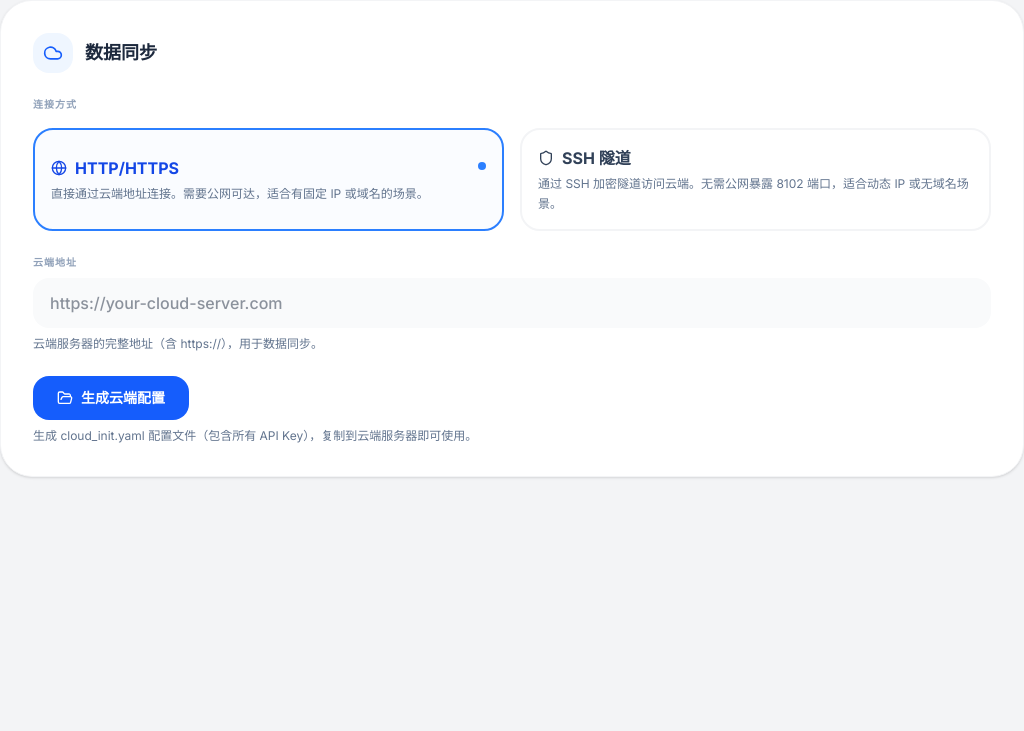
SyncConfigSection › Seam 5: 连接方式切换 › should preserve SSH config when switching back to HTTP mode
切换到 SSH 模式
Click the button "SSH 隧道 通过 SSH 加密隧道访问云端。无需公网暴露 8102 端口，适合动态 IP 或无域名场景。" at x=756, y=180, box [520,128,991,231]
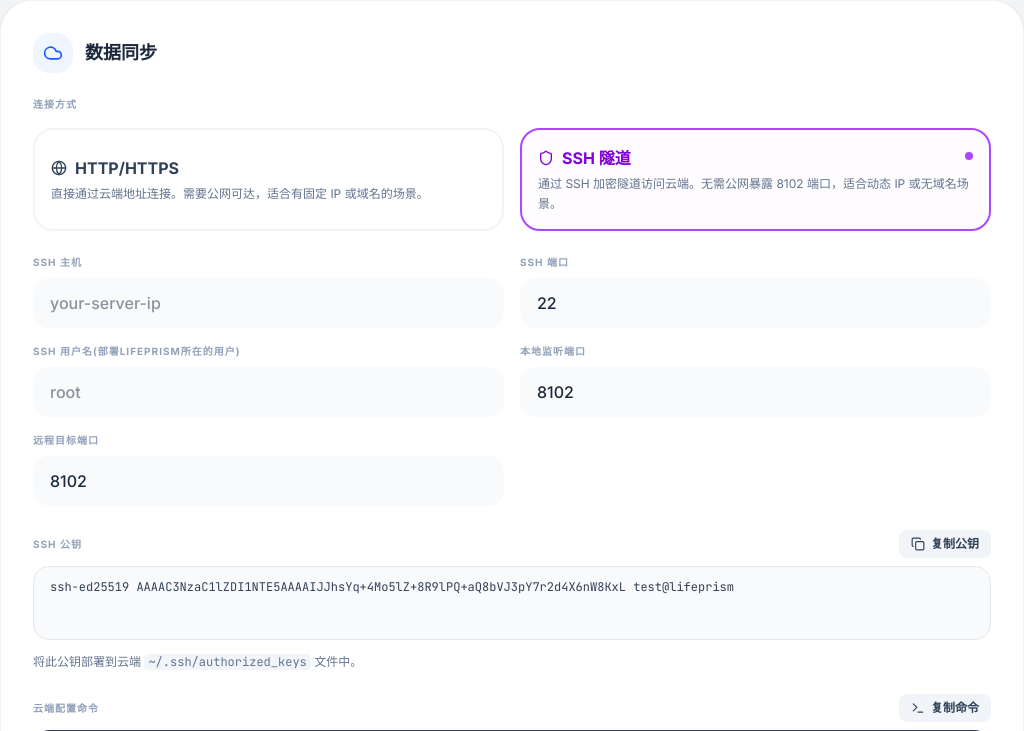
Result: the field named "SSH 主机" is shown
输入 SSH 配置
Type "1.2.3.4" into the field named "SSH 主机" at x=268, y=303, box [33,278,504,328]
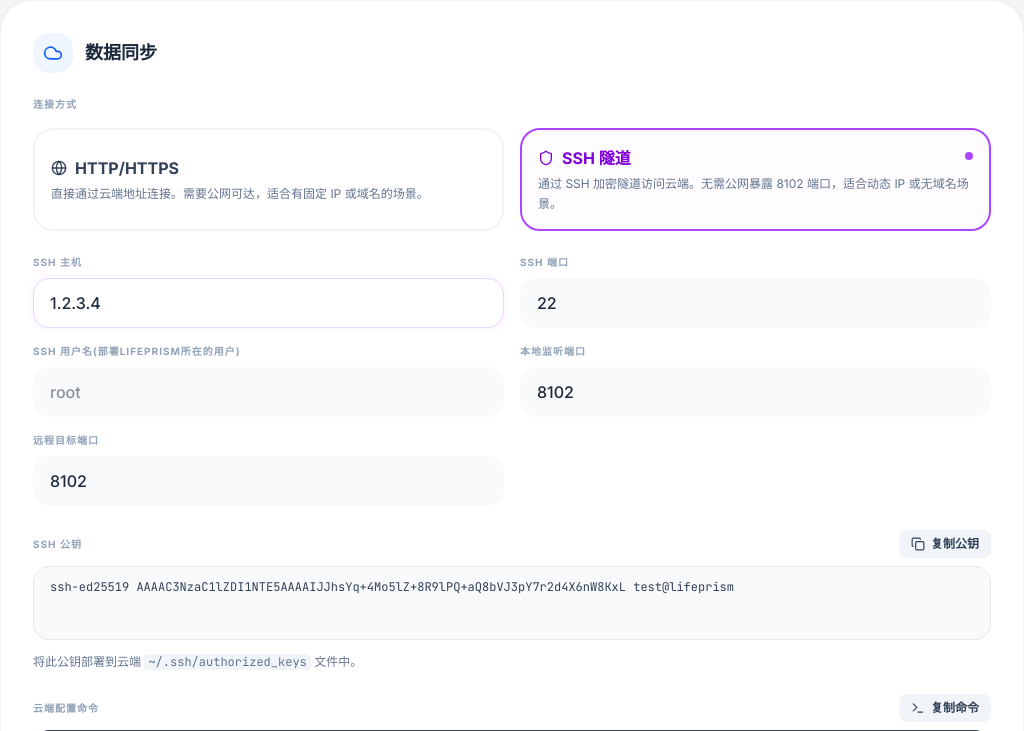
Type "lifeprism" into the field named "SSH 用户名" at x=268, y=392, box [33,367,504,417]
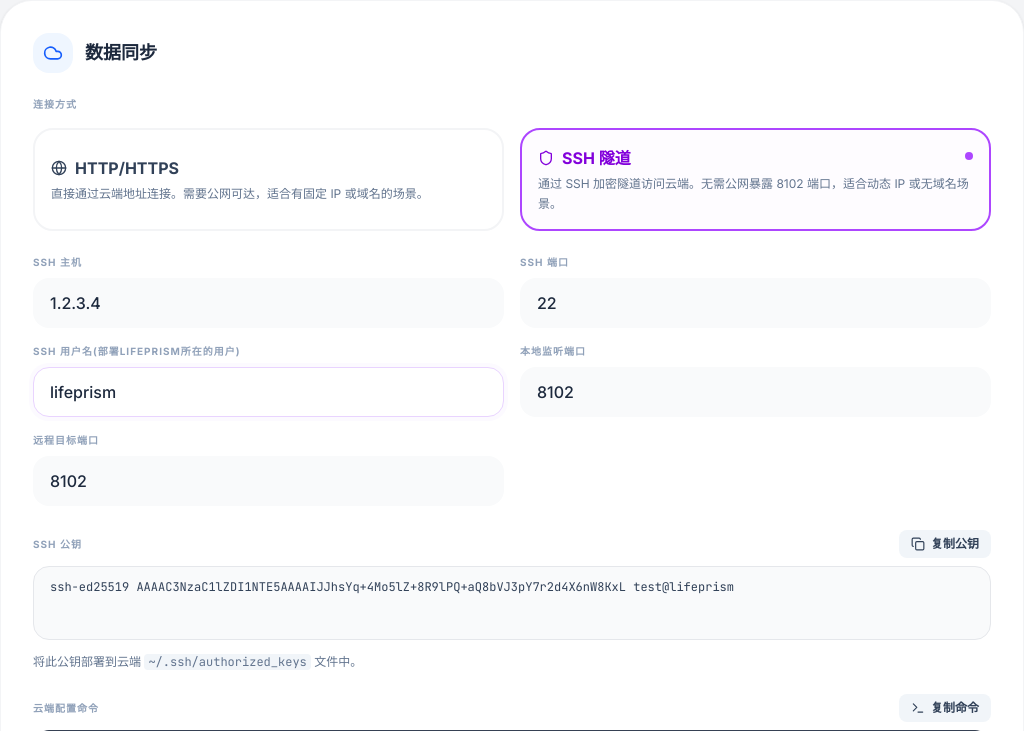
Click the button "HTTP/HTTPS 直接通过云端地址连接。需要公网可达，适合有固定 IP 或域名的场景。" at x=127, y=168, box [33,128,504,231]
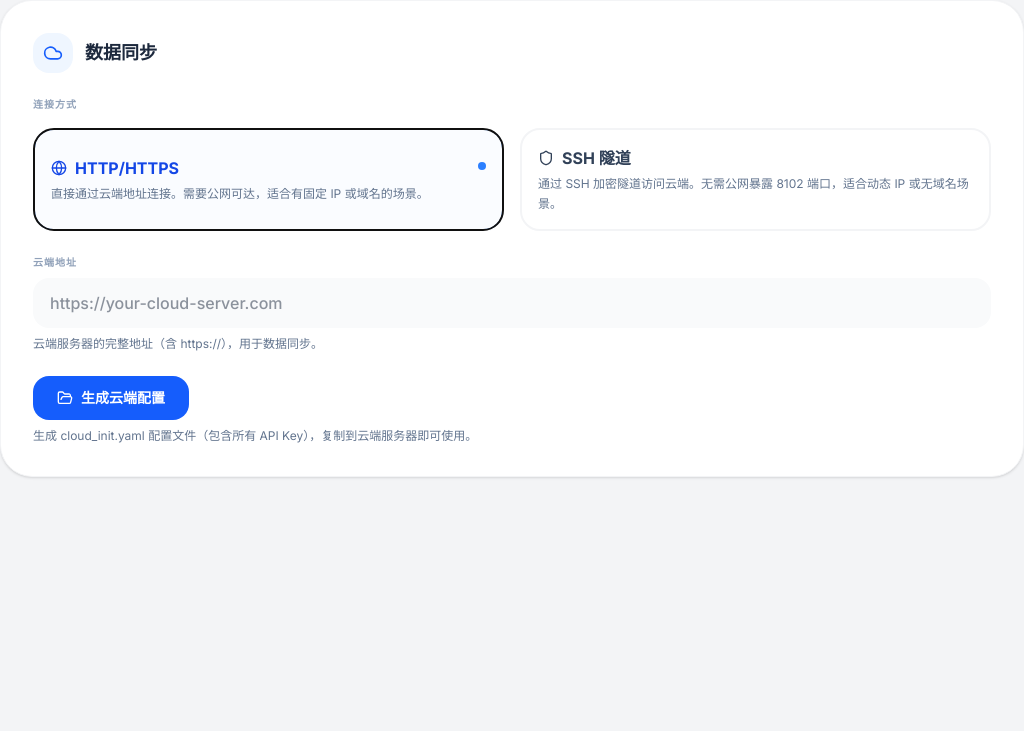
再切回 SSH 模式，配置应保留
Click the button "SSH 隧道 通过 SSH 加密隧道访问云端。无需公网暴露 8102 端口，适合动态 IP 或无域名场景。" at x=756, y=180, box [520,128,991,231]
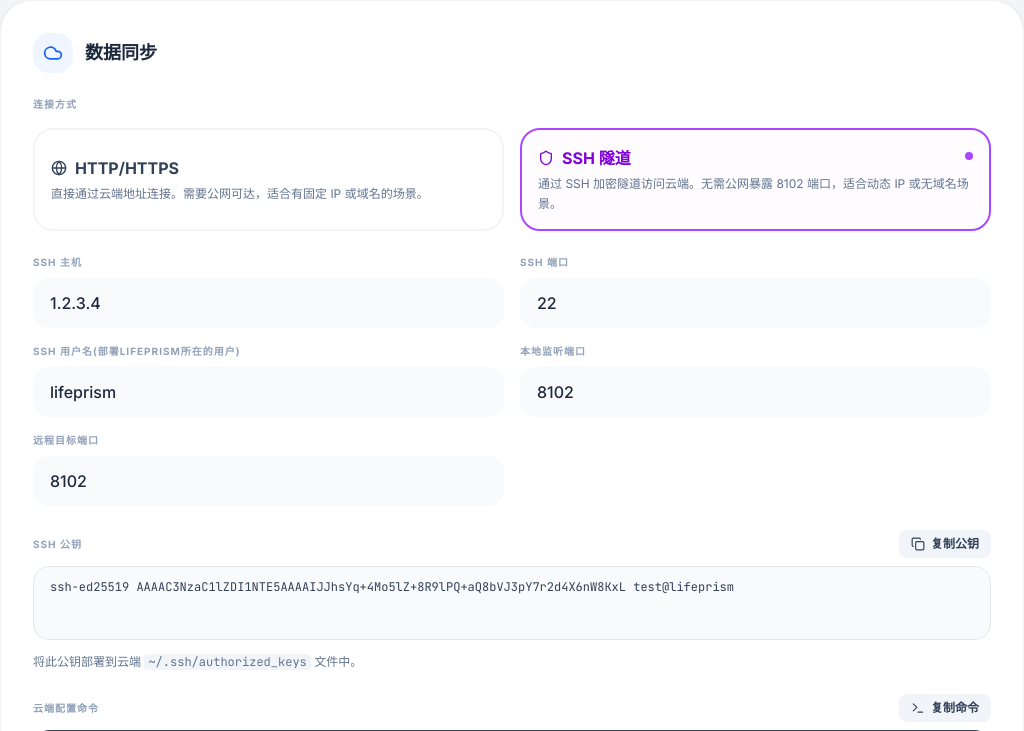
Result: the field named "SSH 主机" holds "1.2.3.4" at [33,278,504,328]
Result: the field named "SSH 用户名" holds "lifeprism" at [33,367,504,417]
